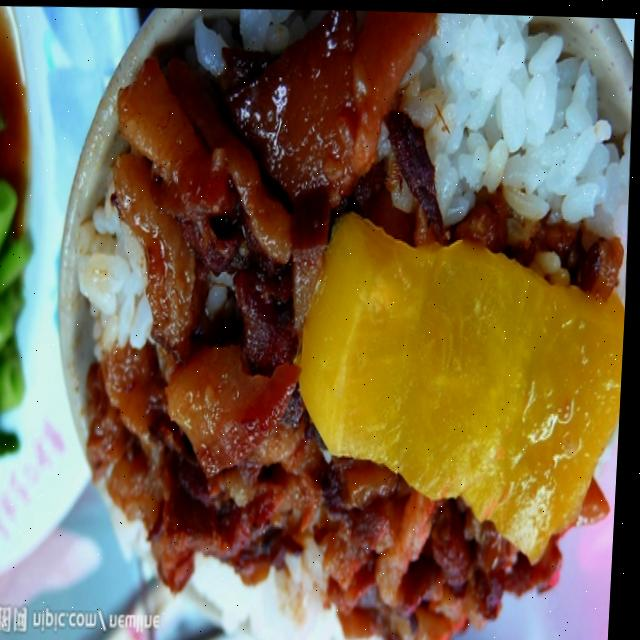猪肉菜式: (30, 1, 640, 640)
